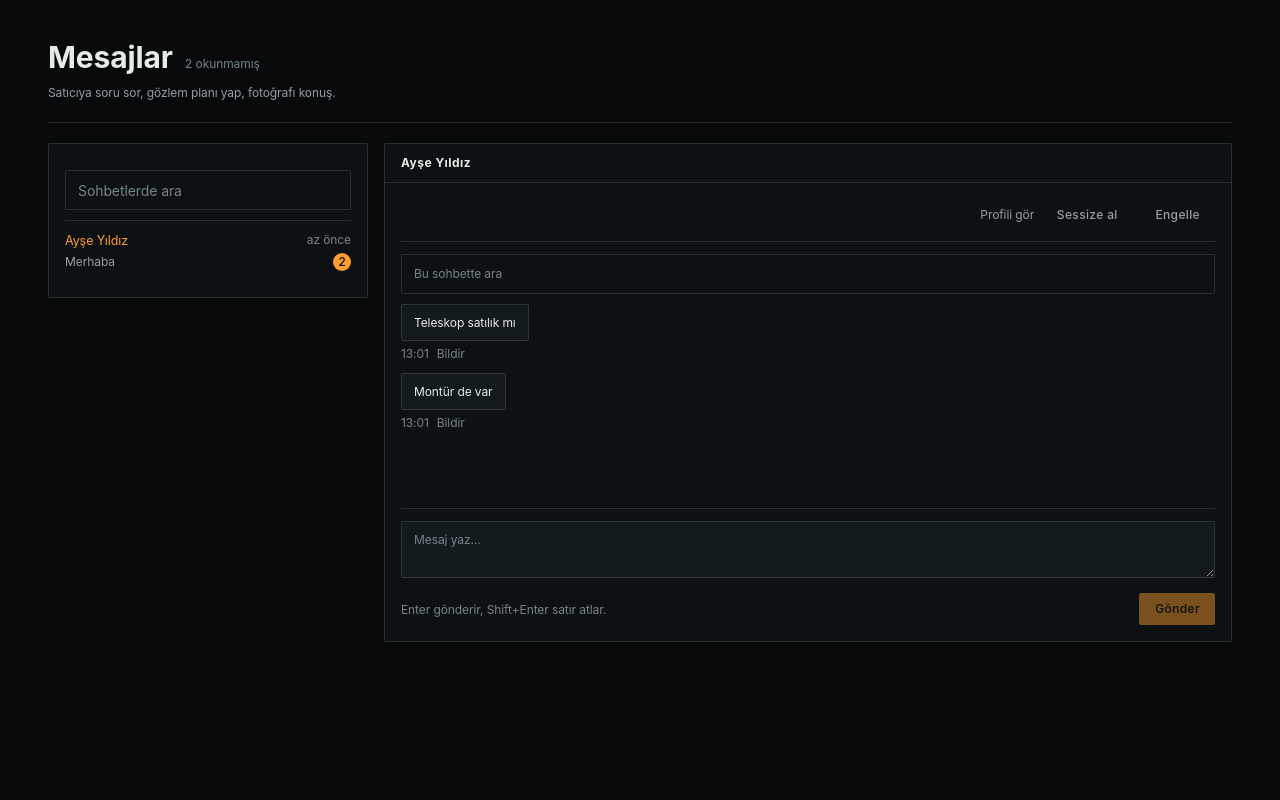
Test: sohbet içi arama › eşleşmeyen mesajı gizler
The image size is (1280, 800).
Type "montür" into the search field labelled "Bu sohbette ara". click: [808, 274]
box: [401,254,1215,294]
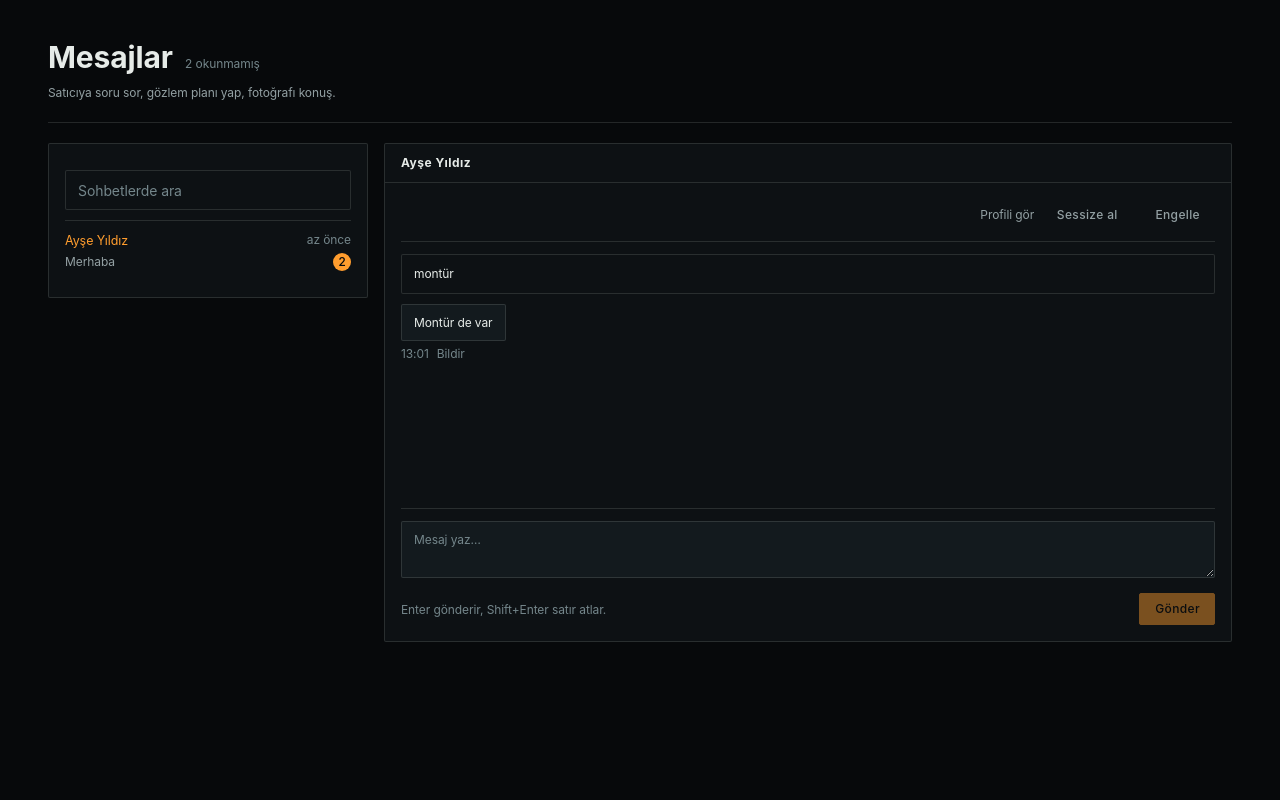
Expected: the text "Montür de var" is shown, [414,313,492,332]
Expected: the text "Teleskop satılık mı" is gone
